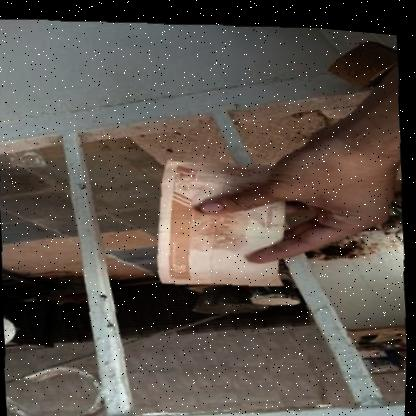twenty-back-vef: (149, 145, 294, 292)
